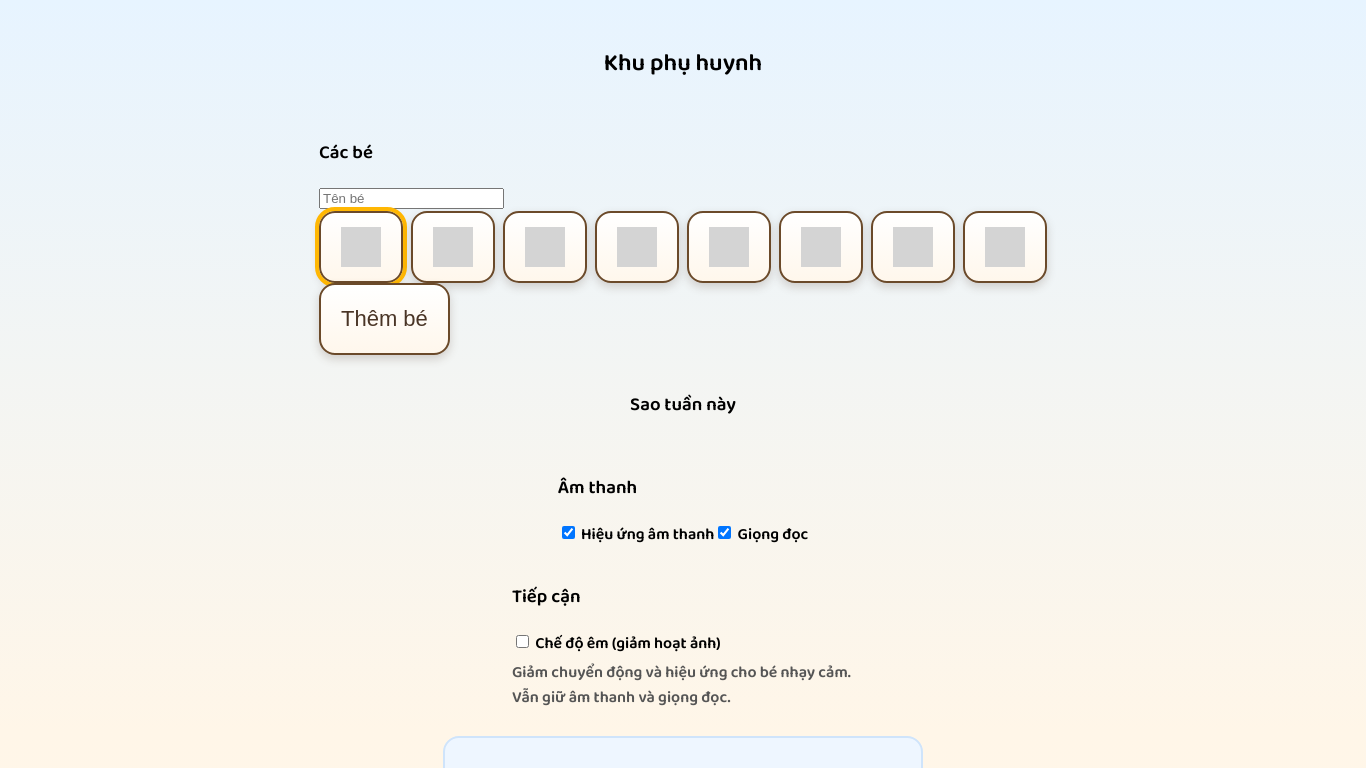
Test case: ParentArea › adds a child profile
This screenshot has width=1366, height=768.
In the field labelled "Tên bé": point(412, 199) [319,188,504,209], type "Na"
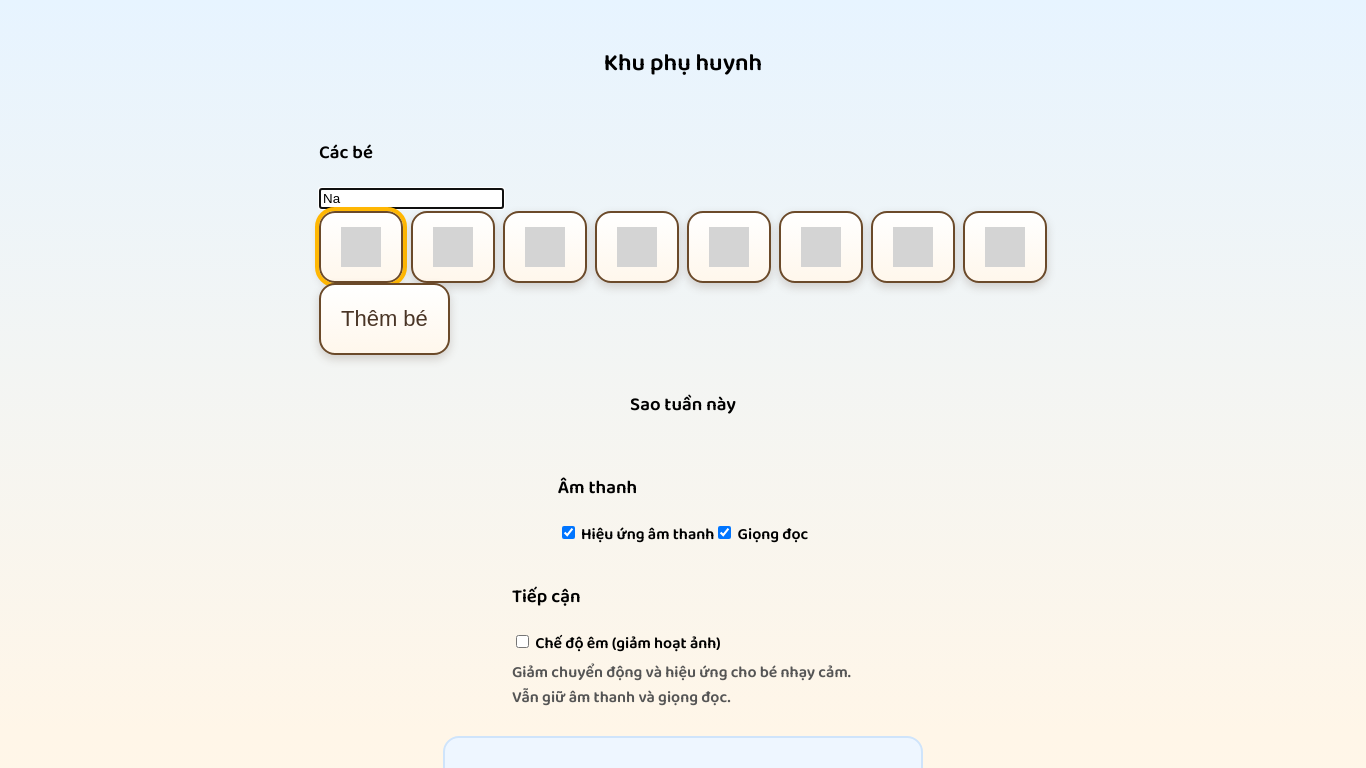
Click the button "Thêm bé": point(384, 319) [319,283,450,355]
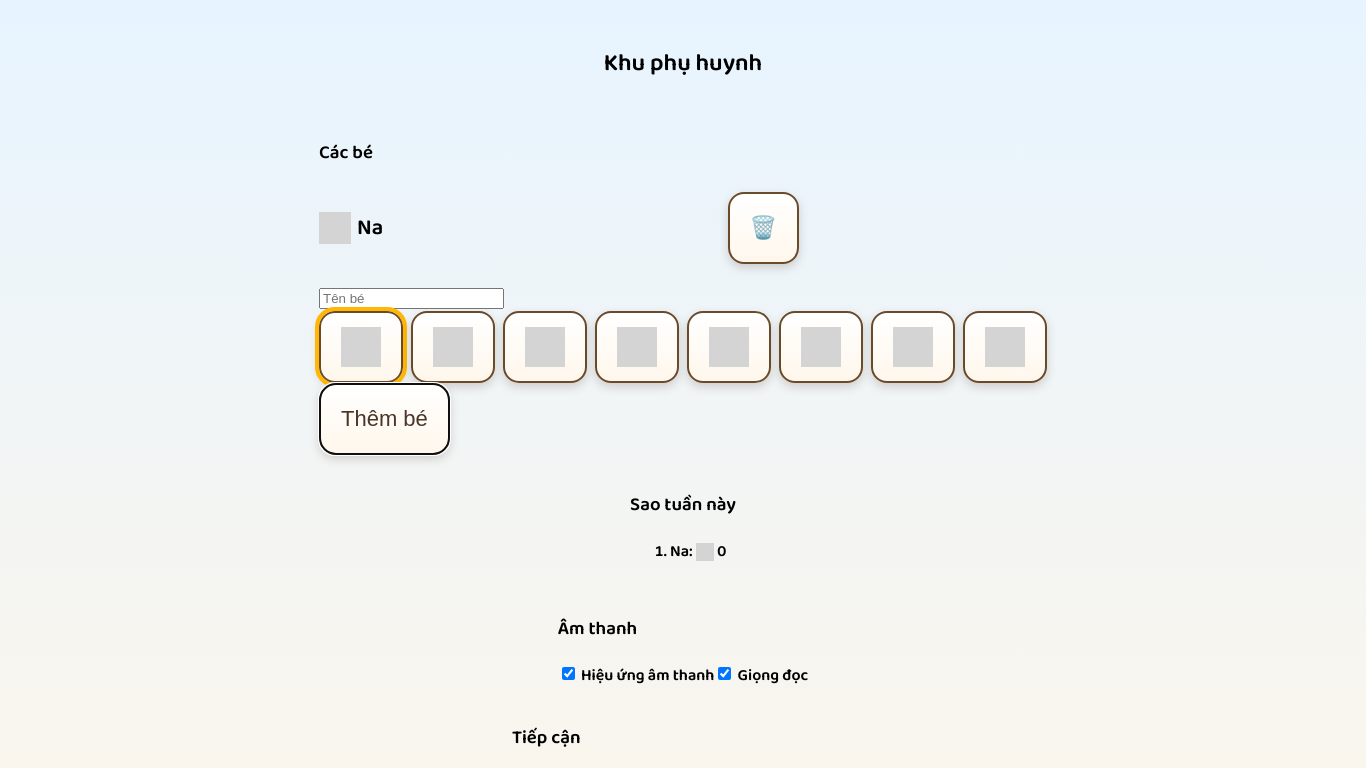
Now the text "Na" is shown, box [319,210,383,246]
